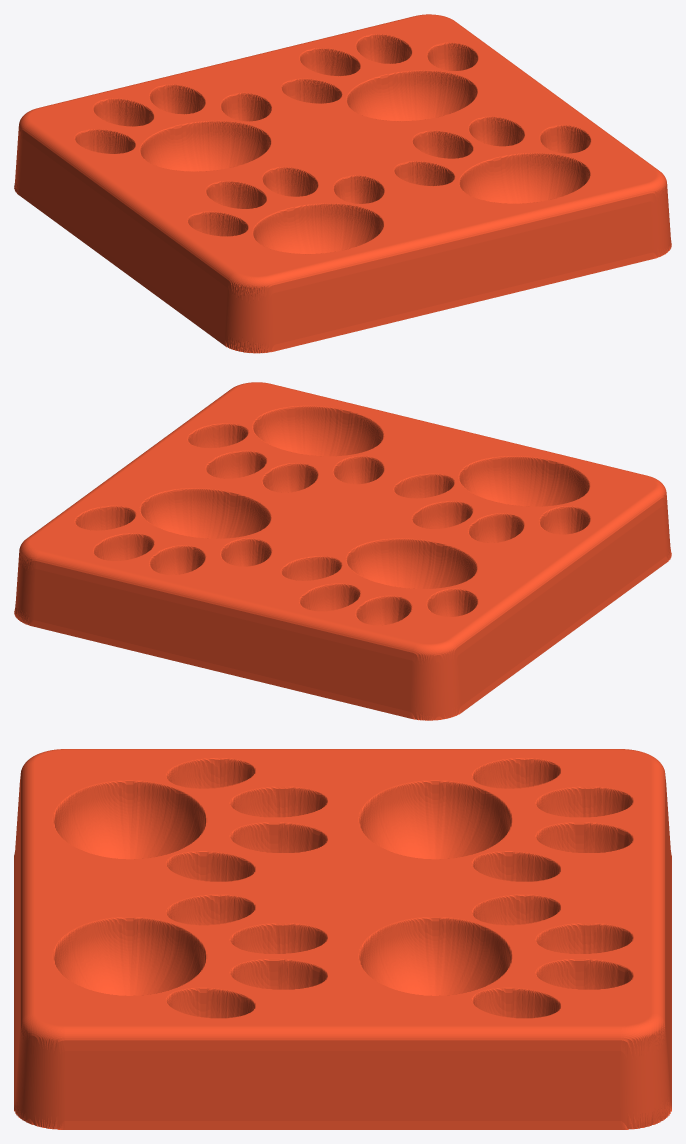
File: mold.glb
The picture shows the model from 3 angles, top to bottom: view 1: azimuth 30°, elevation 25°; view 2: azimuth 150°, elevation 25°; view 3: azimuth 270°, elevation 25°; orthographic projection. The views are drawn at different scales.
Visible parts, largest first — view 1: geometry_0; view 2: geometry_0; view 3: geometry_0.
Part boxes in pixels (x1=…): geometry_0: x1=14, y1=14, x2=671, y2=353; geometry_0: x1=14, y1=382, x2=671, y2=720; geometry_0: x1=14, y1=749, x2=671, y2=1129.
Size of the model in its own units: 0.1218 by 0.0185 by 0.1157.
